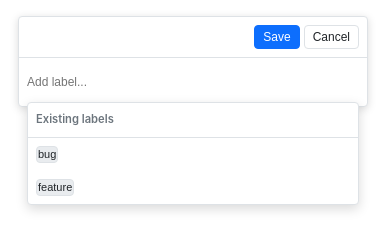
LabelEditor › Edit mode (overlay with cellRect) › should show create new label option when input does not match predefined
The image size is (387, 229).
Step 1. Type "custom-label" into the field with placeholder "Add label..." → [193, 82], box [27,75,359,89]
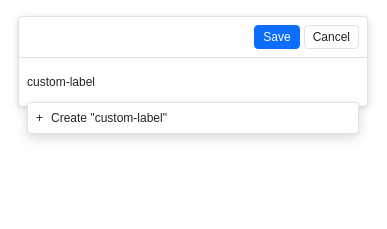
Expected: the button "+ Create \"custom-label\"" is shown, [28,103,358,133]
